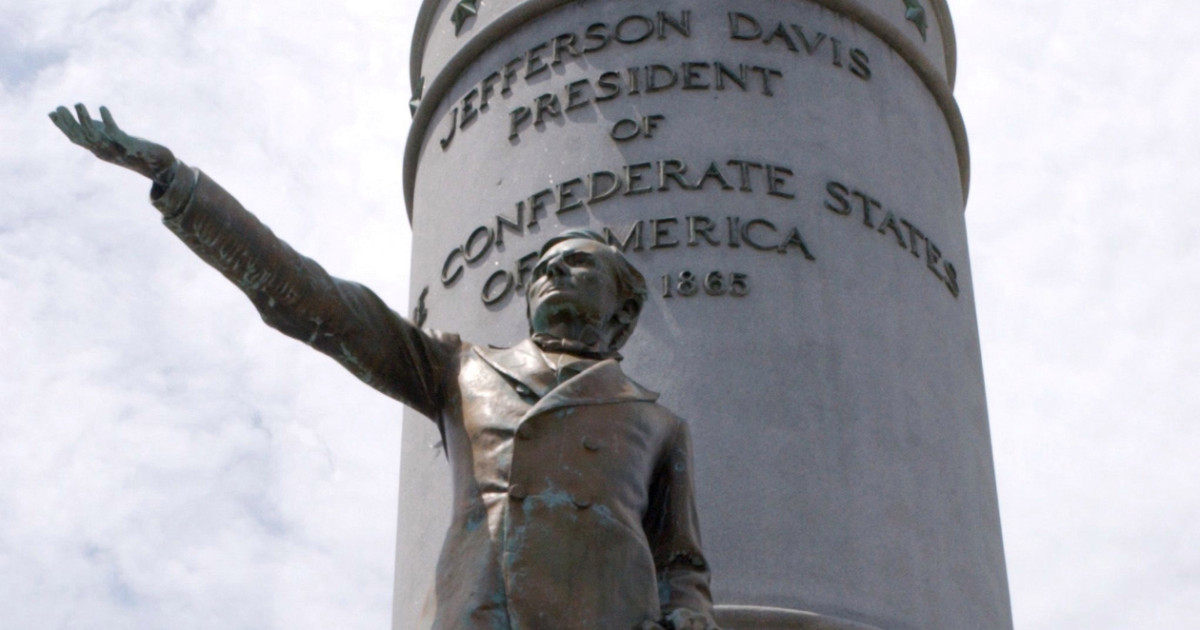person-like: (43, 84, 725, 630)
